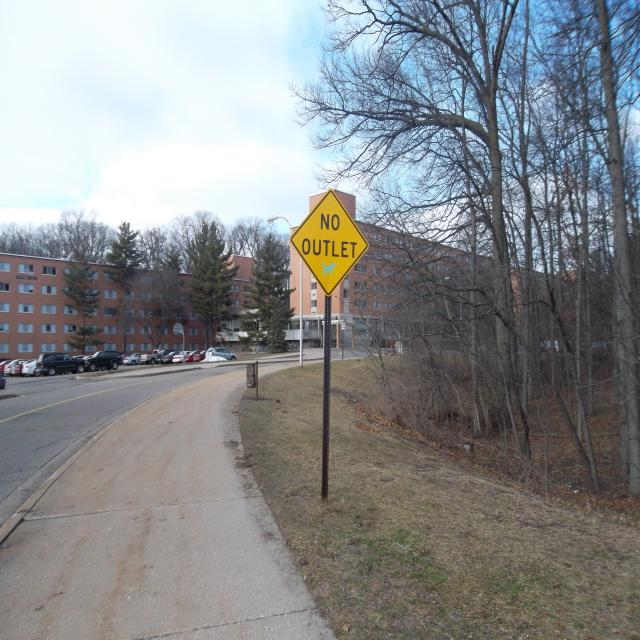warning: (288, 187, 369, 295)
